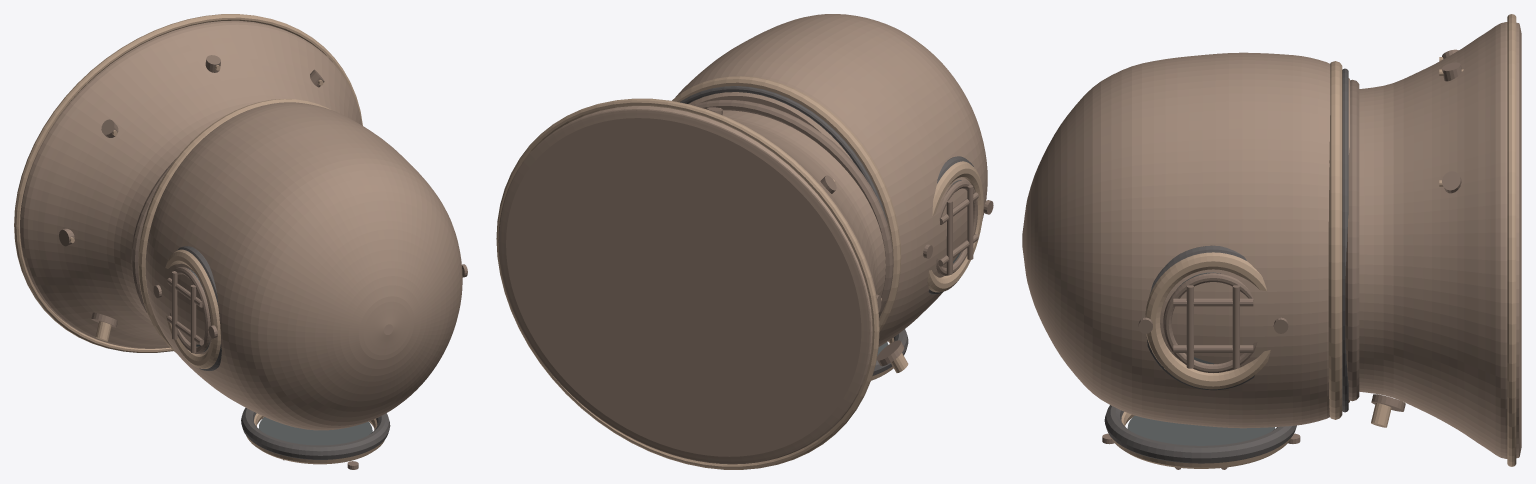
The model's file is early-1881-47.glb.
The picture shows the model from 3 angles, left to right: view 1: azimuth 30°, elevation 25°; view 2: azimuth 150°, elevation 25°; view 3: azimuth 270°, elevation 25°; orthographic projection. The views are drawn at different scales.
Visible parts, largest first — view 1: Bonnet_RoundedCopper, Breastplate_DishedCopper, Breastplate_OuterRolledEdge, FrontPort_RaisedSeat, Bonnet_BaseRolledSeam, LeftPort_CopperRim, FrontPort_Glass, Breastplate_InnerLip, LeftPort_InnerBead, FrontPort_CopperRim, LeftPort_RaisedSeat; view 2: Breastplate_DishedCopper, Bonnet_RoundedCopper, Breastplate_OuterRolledEdge, Bonnet_BaseRolledSeam, Breastplate_InnerLip, LeftPort_CopperRim, Bonnet_LowerShadowSeam, LeftPort_InnerBead; view 3: Bonnet_RoundedCopper, Breastplate_DishedCopper, Bonnet_BaseRolledSeam, RightPort_CopperRim, Breastplate_OuterRolledEdge, Breastplate_InnerLip, FrontPort_RaisedSeat, FrontPort_Glass, Bonnet_LowerShadowSeam, RightPort_InnerBead, FrontPort_CopperRim, RightPort_RaisedSeat (+4 smaller).
Part boxes in pixels (left/top/right/bottom): Bonnet_RoundedCopper: left=145, top=102, right=462, bottom=430; Breastplate_DishedCopper: left=20, top=20, right=361, bottom=348; Breastplate_OuterRolledEdge: left=14, top=14, right=362, bottom=352; FrontPort_RaisedSeat: left=241, top=407, right=390, bottom=459; Bonnet_BaseRolledSeam: left=138, top=99, right=330, bottom=352; LeftPort_CopperRim: left=165, top=249, right=220, bottom=368; FrontPort_Glass: left=258, top=417, right=372, bottom=445; Breastplate_InnerLip: left=131, top=158, right=176, bottom=313; LeftPort_InnerBead: left=170, top=267, right=210, bottom=353; FrontPort_CopperRim: left=246, top=413, right=384, bottom=464; LeftPort_RaisedSeat: left=178, top=246, right=221, bottom=370; Breastplate_DishedCopper: left=498, top=106, right=885, bottom=464; Bonnet_RoundedCopper: left=675, top=14, right=987, bottom=346; Breastplate_OuterRolledEdge: left=496, top=98, right=879, bottom=469; Bonnet_BaseRolledSeam: left=672, top=76, right=901, bottom=331; Breastplate_InnerLip: left=692, top=100, right=893, bottom=316; LeftPort_CopperRim: left=927, top=161, right=983, bottom=292; Bonnet_LowerShadowSeam: left=680, top=86, right=887, bottom=317; LeftPort_InnerBead: left=936, top=180, right=977, bottom=275; Bonnet_RoundedCopper: left=1022, top=52, right=1349, bottom=428; Breastplate_DishedCopper: left=1359, top=22, right=1521, bottom=458; Bonnet_BaseRolledSeam: left=1328, top=61, right=1342, bottom=419; RightPort_CopperRim: left=1145, top=252, right=1270, bottom=389; Breastplate_OuterRolledEdge: left=1507, top=14, right=1516, bottom=466; Breastplate_InnerLip: left=1345, top=79, right=1359, bottom=401; FrontPort_RaisedSeat: left=1104, top=405, right=1296, bottom=463; FrontPort_Glass: left=1127, top=415, right=1274, bottom=445; Bonnet_LowerShadowSeam: left=1342, top=68, right=1348, bottom=412; RightPort_InnerBead: left=1163, top=273, right=1257, bottom=372; FrontPort_CopperRim: left=1111, top=412, right=1290, bottom=468; RightPort_RaisedSeat: left=1146, top=245, right=1254, bottom=390.
Size of the model in its own units: 0.46 by 0.417 by 0.465.
